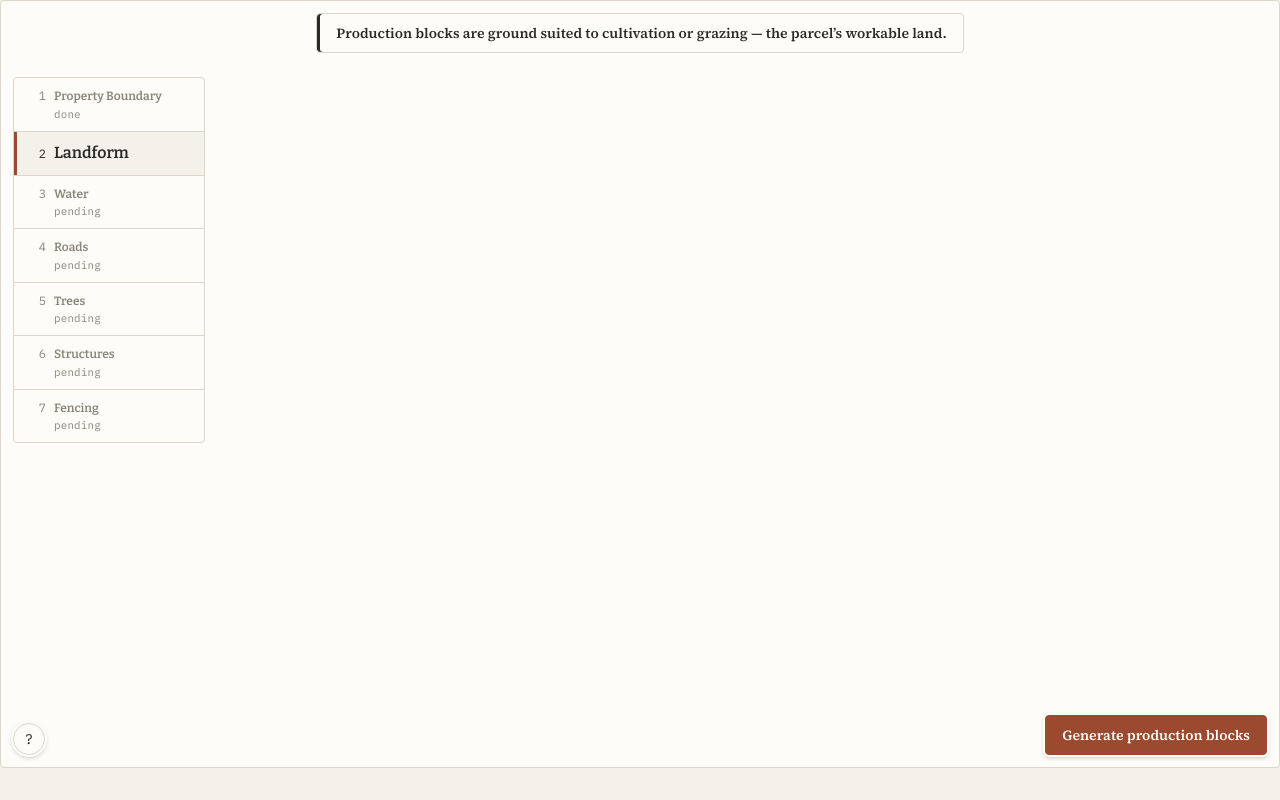
Test: 3. a card fires on the generate press › fires on the press, not on arrival -- and marks the step seen as it opens
What coordinates should you click on to do the following:
click the button "Generate production blocks"
I would click on:
 (1156, 735)
Its box is [1045, 715, 1267, 755].
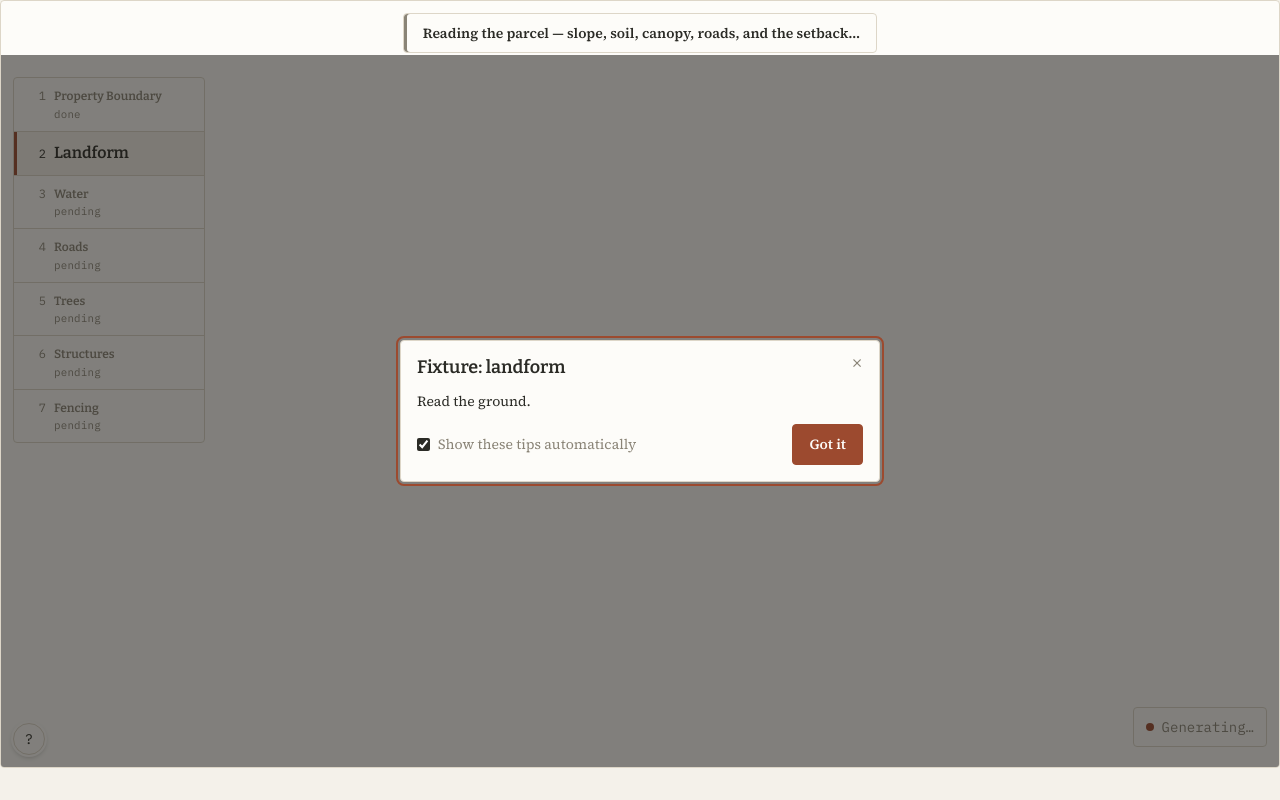
Expected: the heading "Fixture: landform" is shown, [417, 356, 565, 378]
